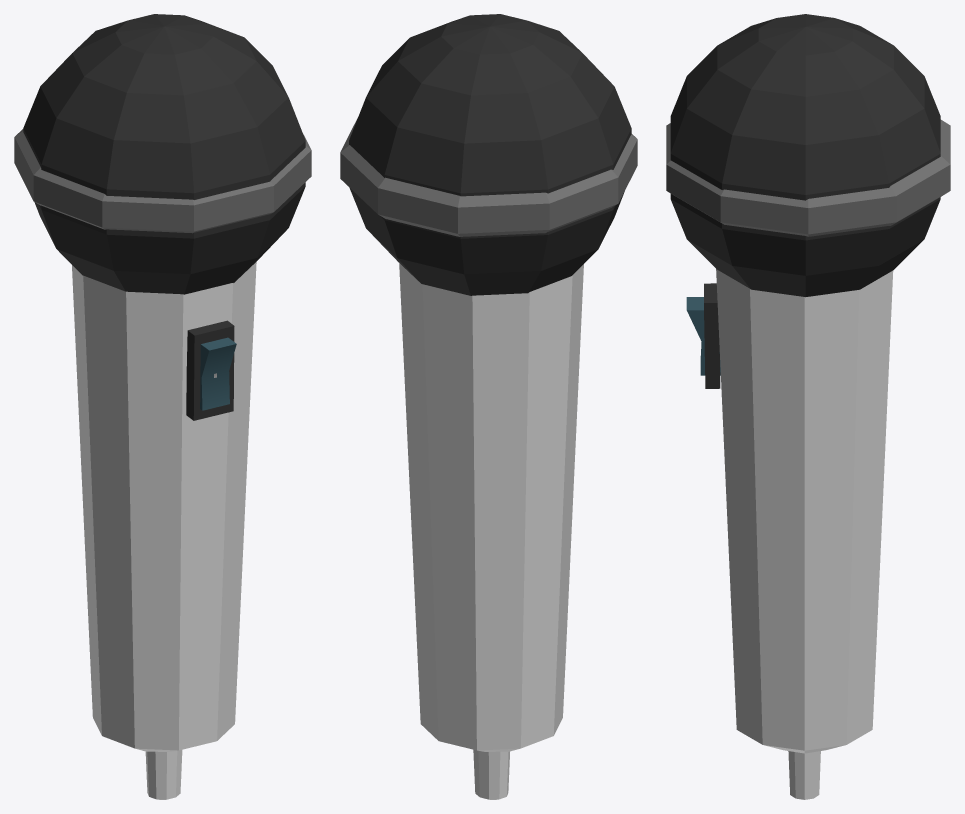
The model's file is SM_Microphone.fbx.
The picture shows the model from 3 angles, left to right: view 1: azimuth 30°, elevation 25°; view 2: azimuth 150°, elevation 25°; view 3: azimuth 270°, elevation 25°; orthographic projection.
Parts seen in each view (by area): view 1: pCylinder1, pSphere1, pTorus1, pCube1, pasted__pCube1; view 2: pCylinder1, pSphere1, pTorus1; view 3: pCylinder1, pSphere1, pTorus1, pCube1, pasted__pCube1.
Boxes of the visible parts, x1,y1,x2,y2 form: pCylinder1: [72, 262, 256, 799]; pSphere1: [23, 14, 305, 294]; pTorus1: [14, 129, 311, 233]; pCube1: [186, 320, 234, 420]; pasted__pCube1: [200, 337, 236, 410]; pCylinder1: [399, 263, 583, 799]; pSphere1: [349, 14, 631, 295]; pTorus1: [340, 118, 637, 236]; pCylinder1: [716, 269, 893, 799]; pSphere1: [670, 14, 940, 297]; pTorus1: [666, 119, 950, 236]; pCube1: [704, 283, 720, 388]; pasted__pCube1: [686, 297, 720, 375].
Bounding box in the file's own units: 4.07 × 11.56 × 3.87.
